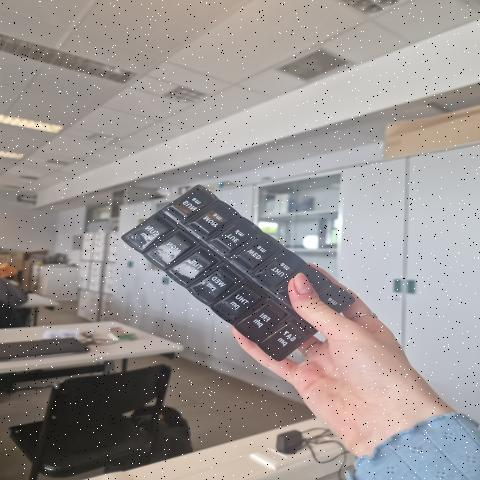Pill-box: (70, 139, 386, 384)
